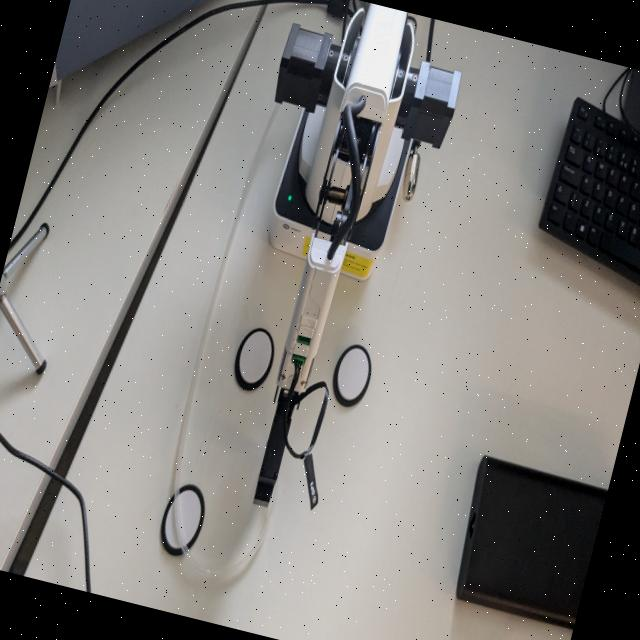Robot-end-effector-HF8z: (248, 394, 302, 514)
